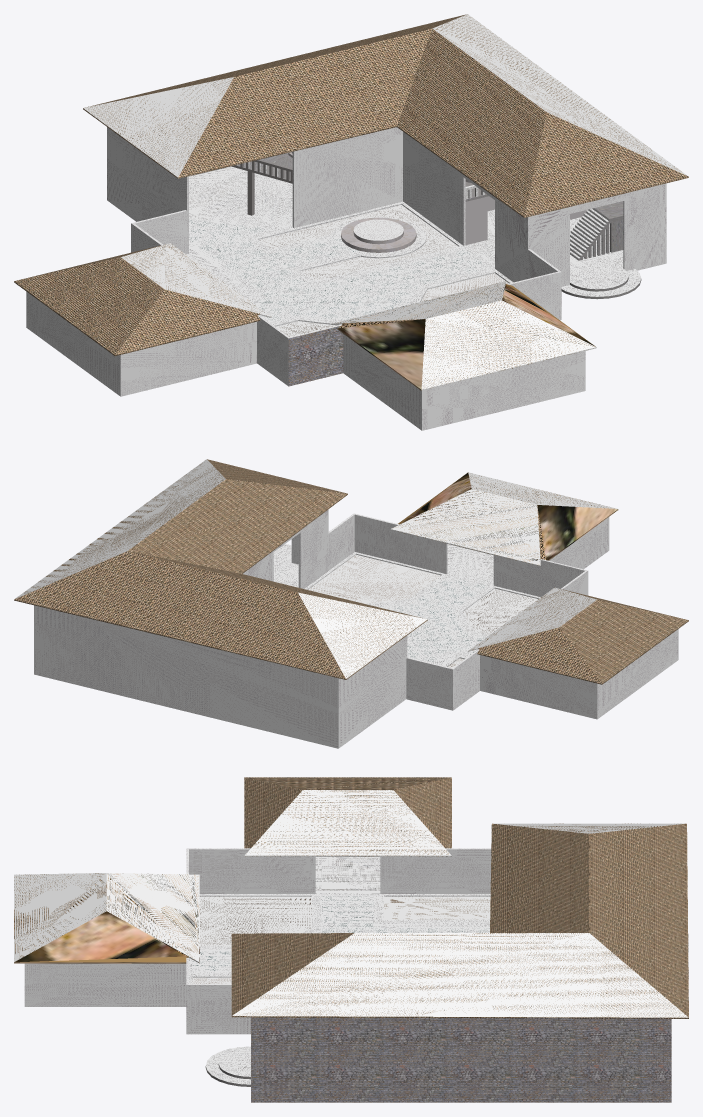
Rendered from Newcomers_Guild.fbx.
3 views of the same model, one above another, from view 1: azimuth 30°, elevation 25°; view 2: azimuth 150°, elevation 25°; view 3: azimuth 270°, elevation 25° (orthographic). The views are drawn at different scales.
Visible parts, largest first — view 1: ID2987, ID11, ID83, ID2881, ID2826, ID3361, ID51, ID24, ID282, ID3353, ID649; view 2: ID11, ID2987, ID2881, ID2826, ID83, ID649, ID296; view 3: ID2987, ID37, ID11, ID2881, ID2826, ID83, ID296, ID317.
Boxes of the visible parts, x1,y1,x2,y2 form: ID2987: (83, 14, 688, 217); ID11: (26, 127, 666, 430); ID83: (186, 153, 641, 325); ID2881: (331, 281, 596, 390); ID2826: (14, 243, 271, 356); ID3361: (259, 205, 457, 281); ID51: (288, 326, 343, 386); ID24: (189, 166, 587, 244); ID282: (341, 217, 416, 252); ID3353: (353, 219, 403, 244); ID649: (420, 273, 508, 301); ID11: (34, 509, 678, 748); ID2987: (14, 459, 427, 679); ID2881: (390, 472, 618, 566); ID2826: (467, 587, 688, 684); ID83: (273, 544, 540, 666); ID649: (308, 554, 440, 603); ID296: (463, 588, 537, 634); ID2987: (231, 823, 688, 1018); ID37: (251, 1017, 671, 1102); ID11: (24, 848, 491, 1034); ID2881: (14, 873, 199, 963); ID2826: (244, 777, 451, 856); ID83: (189, 857, 490, 1086); ID296: (199, 896, 311, 945); ID317: (384, 896, 490, 919).
Size of the model in its own units: 2054 by 2054 by 453.
Materials: 9 (8 with a texture image).
